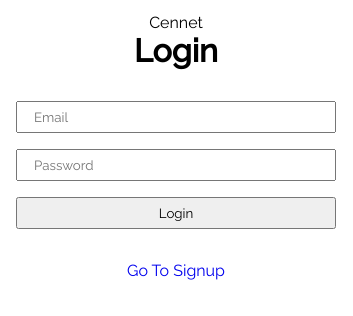
it: Login Page Tests › user don't find
In the field with placeholder "Email": {"x": 176, "y": 117} x1=16 y1=101 x2=336 y2=133, type "noneuser@gmail.com"
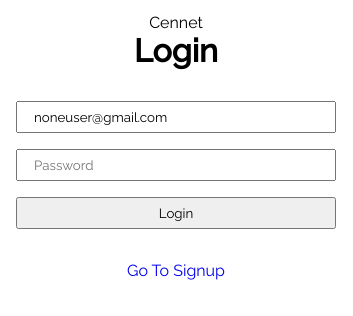
In the password field with placeholder "Password": {"x": 176, "y": 165} x1=16 y1=149 x2=336 y2=181, type "nononon"
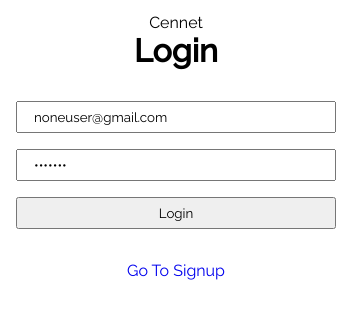
Click the button: {"x": 176, "y": 213} x1=16 y1=197 x2=336 y2=229
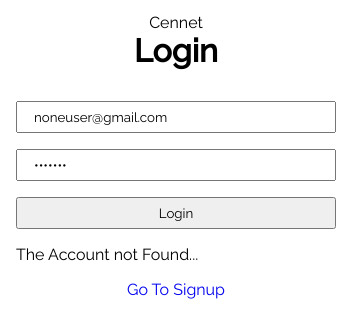
Expected: the text "The Account not Found..." is shown, x1=16 y1=245 x2=198 y2=264
